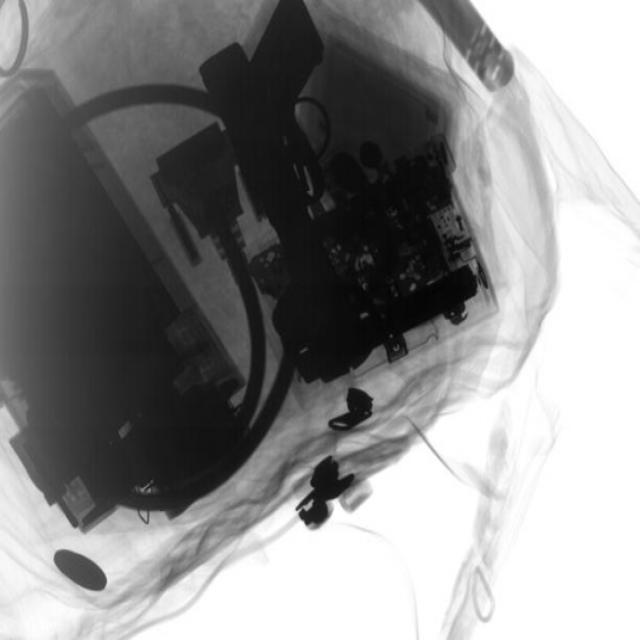GUN: (208, 4, 340, 290)
